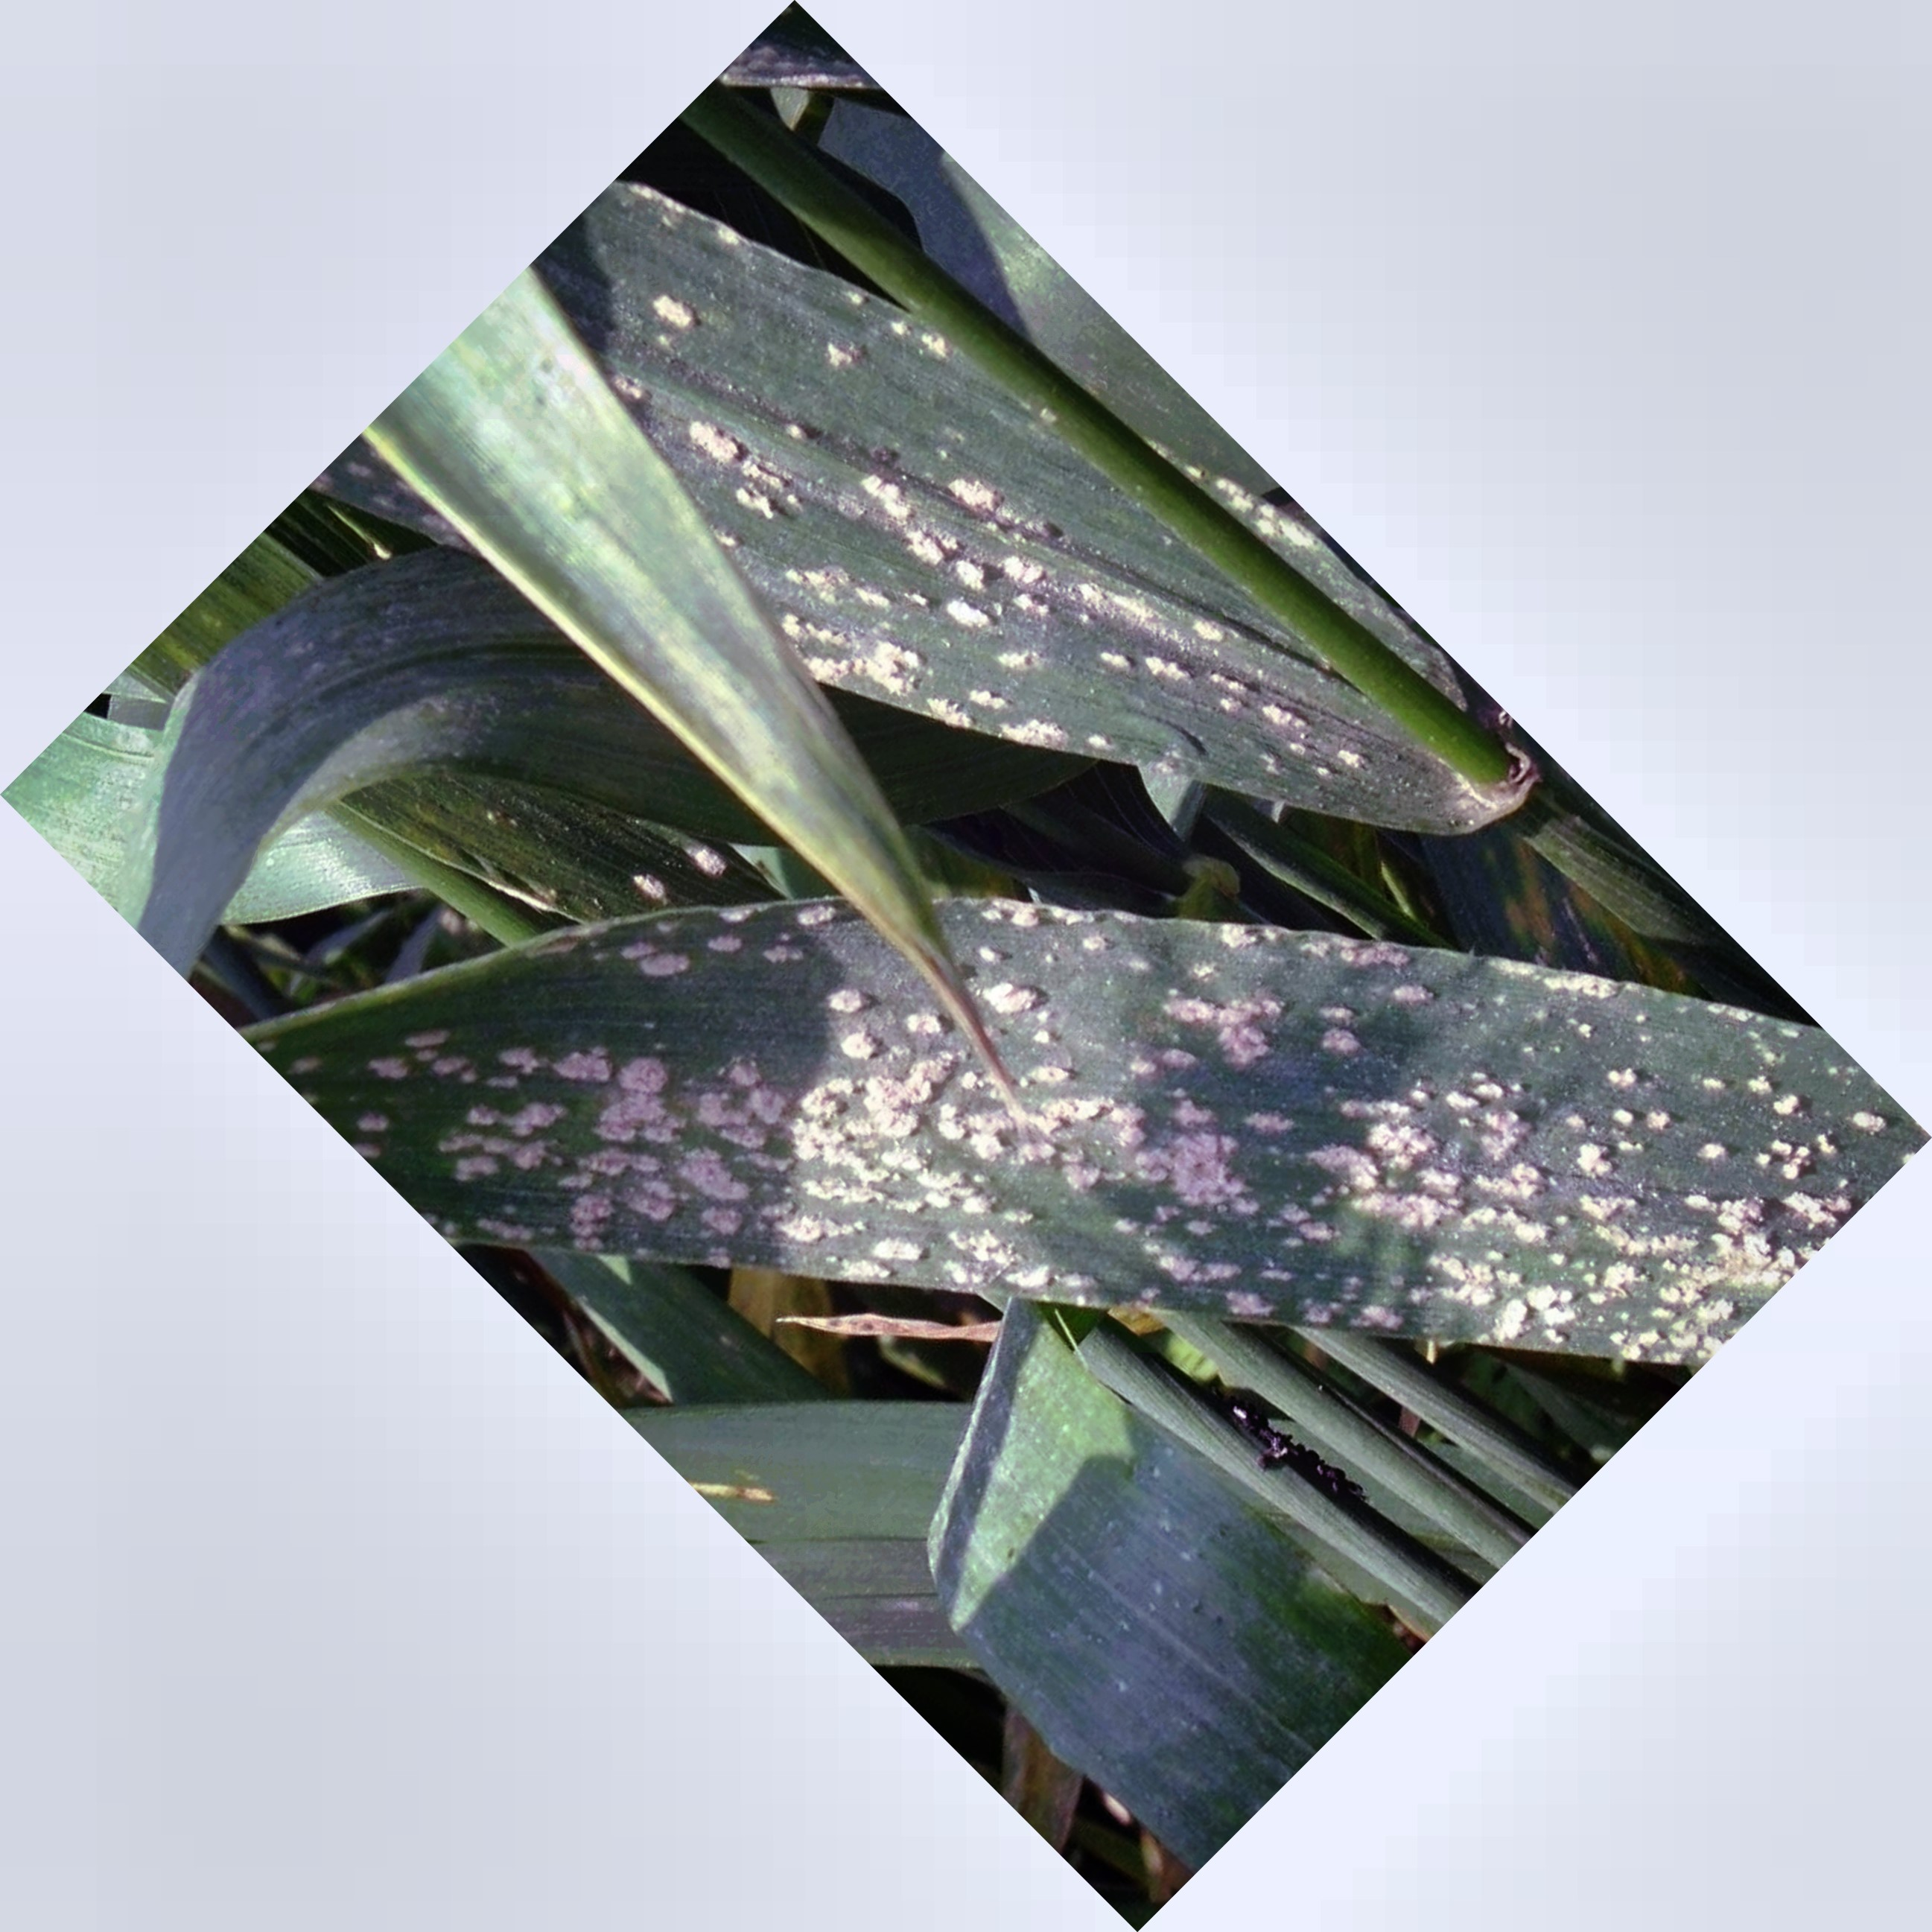Powdery Mildew: (566, 918, 1762, 1366)
